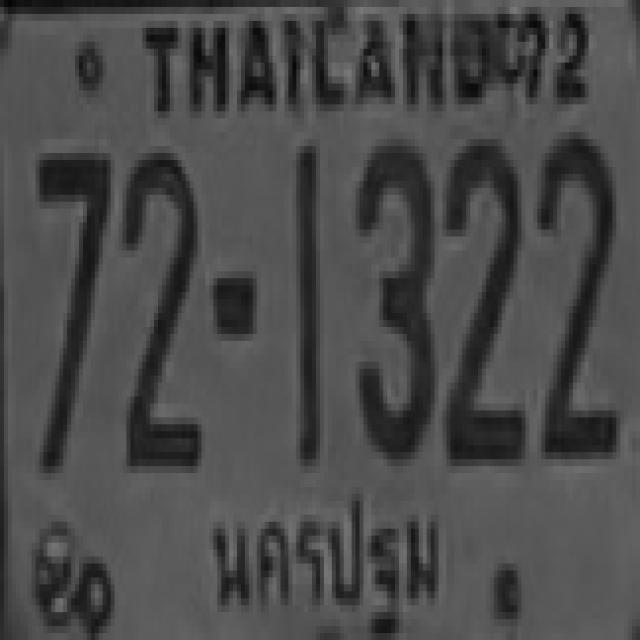1: (292, 139, 316, 459)
2: (440, 136, 520, 456), (536, 128, 614, 456), (120, 146, 196, 466)
3: (353, 139, 432, 452)
7: (36, 146, 106, 466)
NakhonPathom: (203, 486, 444, 629)
